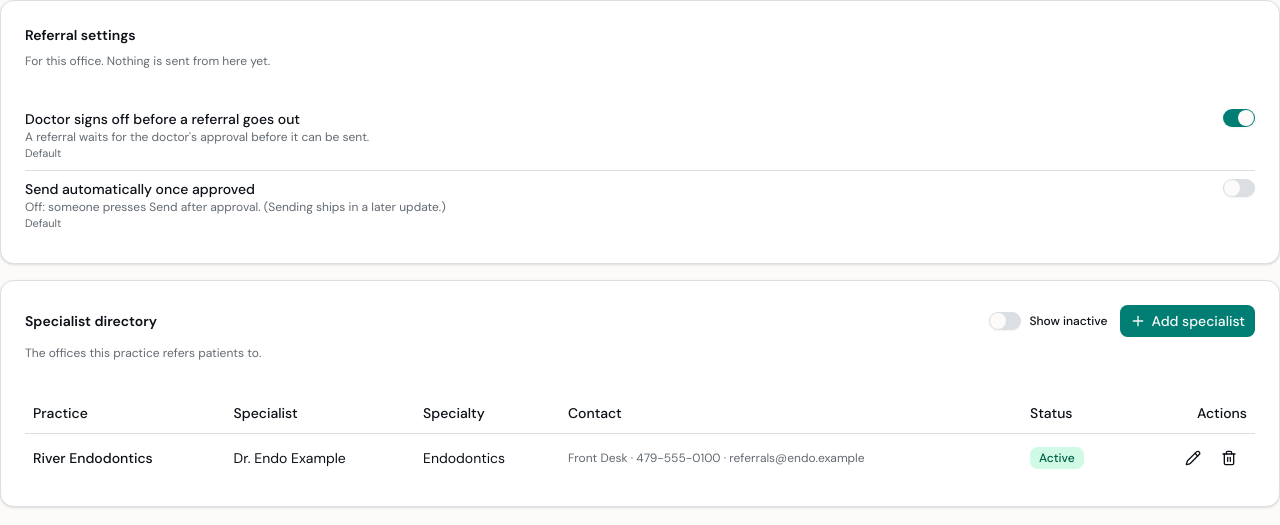
Test: 2: the policies › an admin flips sign-off and the switch shows the server's answer
What coordinates should you click on to do the following:
click the switch named "Doctor signs off"
I would click on:
 (1239, 118)
Its box is [1223,109,1255,127].
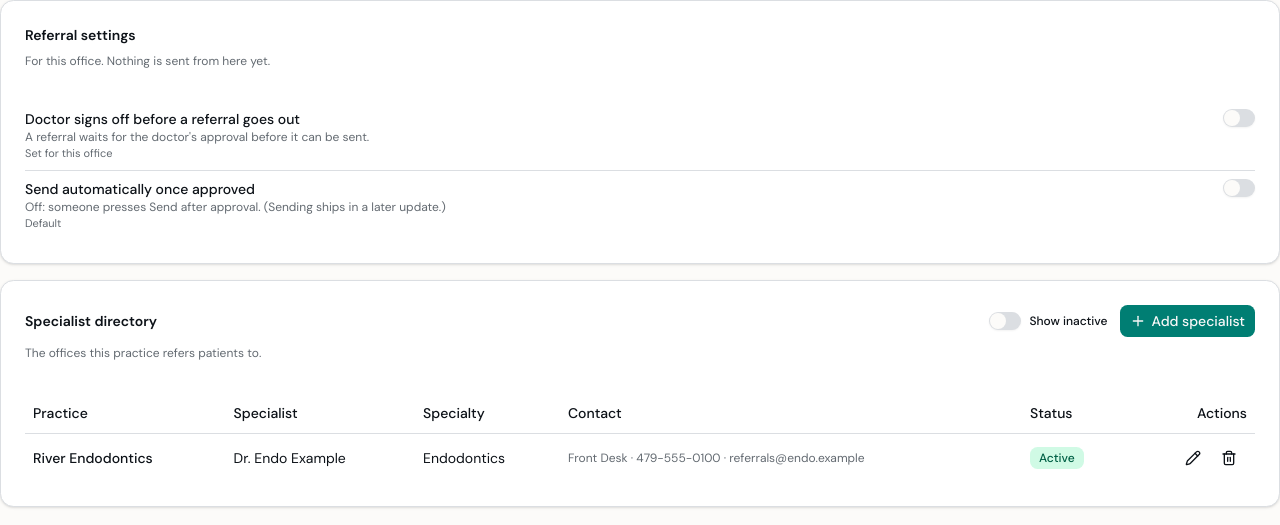
Now the text "Set for this office" is shown, box [25,146,112,160]
